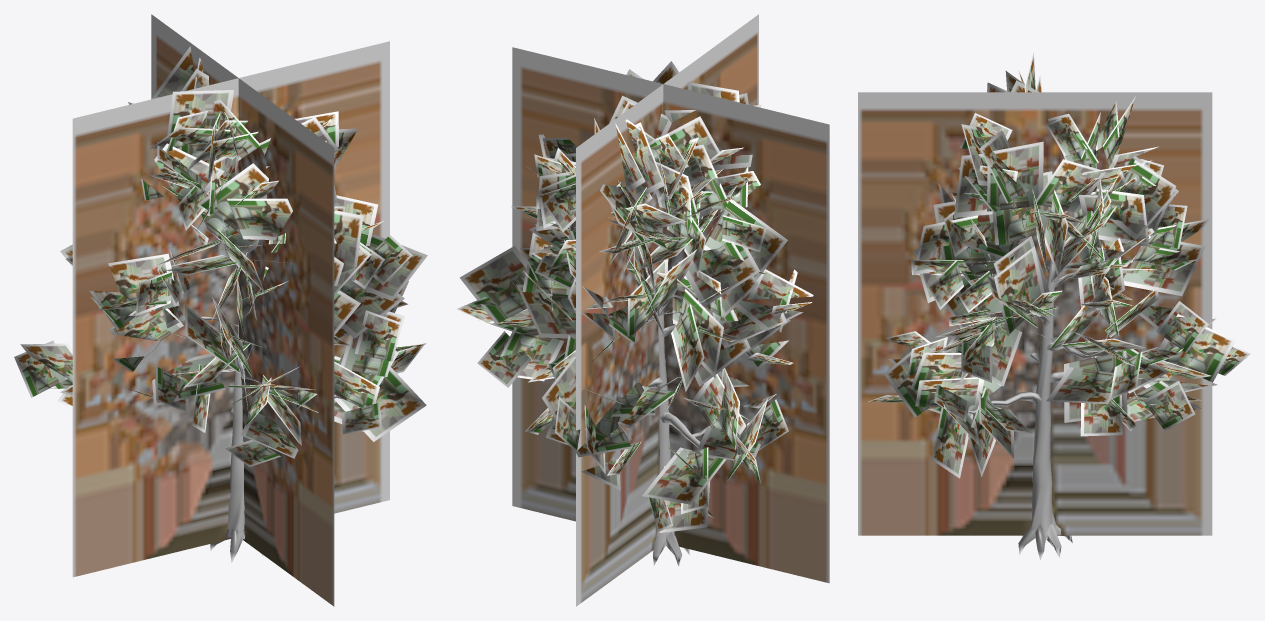
File: Tree-Maple1D.fbx
The picture shows the model from 3 angles, left to right: view 1: azimuth 30°, elevation 25°; view 2: azimuth 150°, elevation 25°; view 3: azimuth 270°, elevation 25°; orthographic projection. The views are drawn at different scales.
Visible parts, largest first — view 1: Billboard-MapleD, Tree-Maple1D_LOD0; view 2: Billboard-MapleD, Tree-Maple1D_LOD0; view 3: Billboard-MapleD, Tree-Maple1D_LOD0.
Boxes of the visible parts, <box> form: Billboard-MapleD: <box>72,14,389,606</box>; Tree-Maple1D_LOD0: <box>14,46,427,562</box>; Billboard-MapleD: <box>512,14,829,606</box>; Tree-Maple1D_LOD0: <box>457,61,813,566</box>; Billboard-MapleD: <box>858,92,1212,535</box>; Tree-Maple1D_LOD0: <box>867,52,1250,559</box>.
Size of what is drawn, in the model's own units: 1620 by 2279 by 1741.
